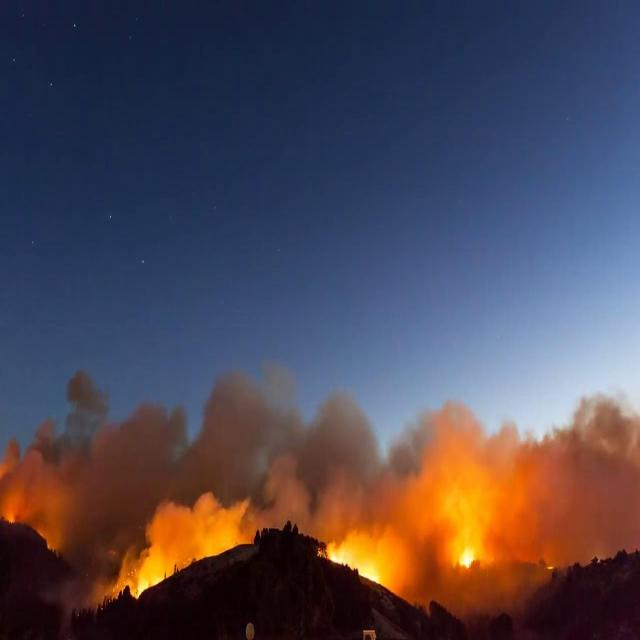Fire: (320, 550, 377, 582), (106, 573, 168, 601), (454, 549, 476, 567), (6, 513, 15, 529), (544, 564, 556, 570)
